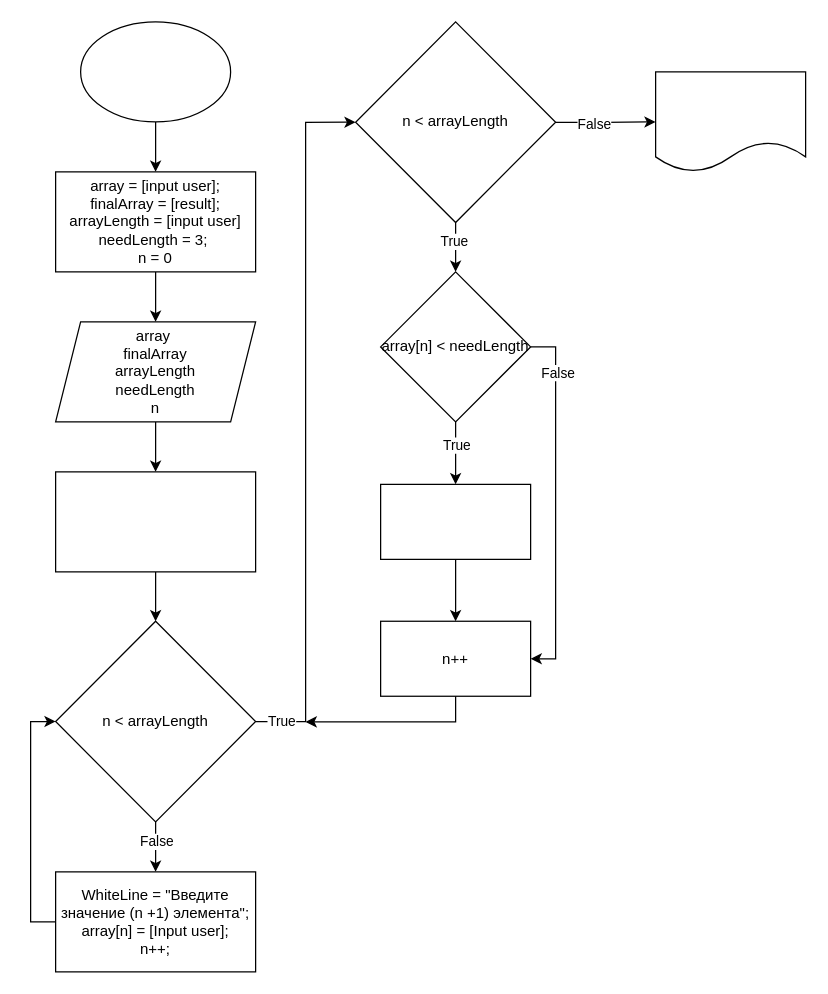
Image size: 828x994. Some labels were removed from this diagram. The shapes that lost their labels are listed below. From the top down, each one's box as (x1, y1, x2, y2) in pixels, then its label:
(79, 21, 231, 122): Start
(654, 71, 806, 172): WhireLine finalArray
(54, 471, 256, 572): WriteLine = "Введите длину"; arrayLength = [Input user]
(379, 483, 531, 559): finalArray[n] = array [n]
